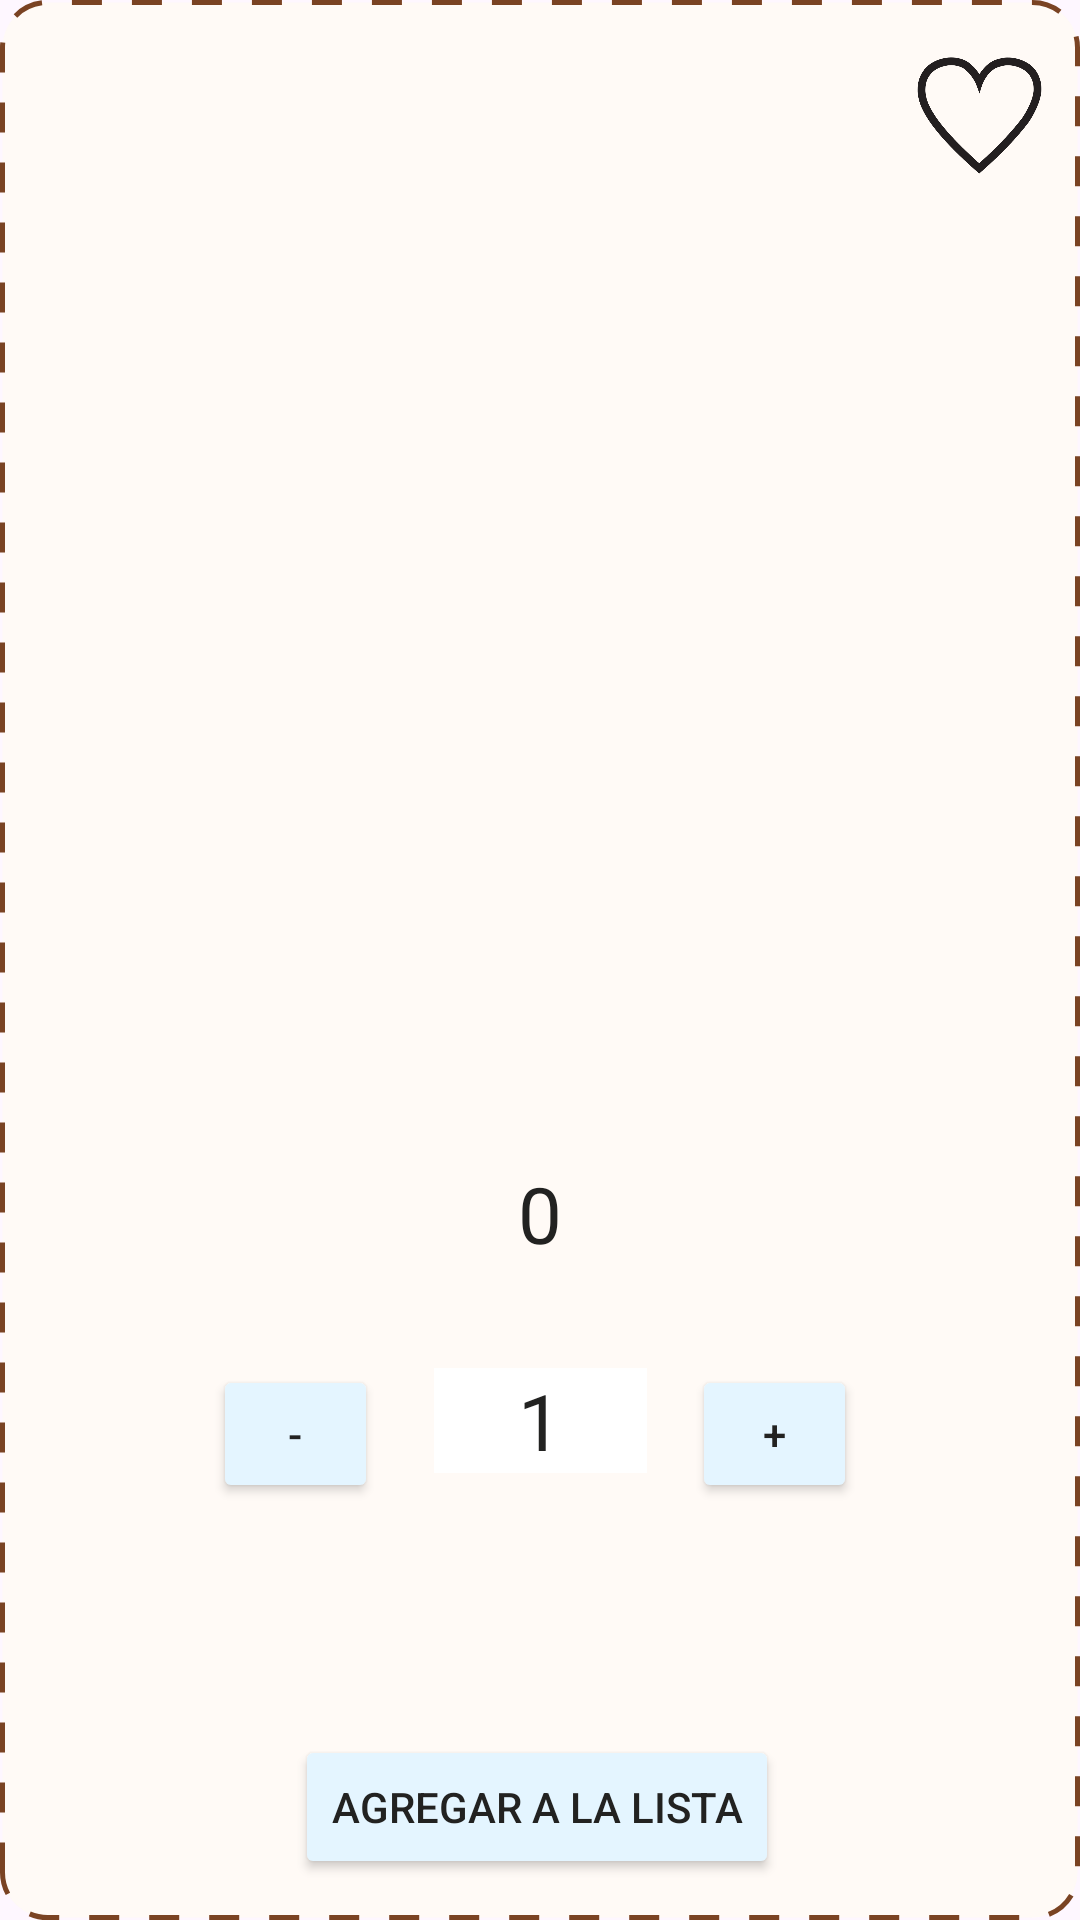

Named icons in this screenshot (1080 x 1920) and their centers, point (x, y):
corazon desmarcado: point (979, 115)
